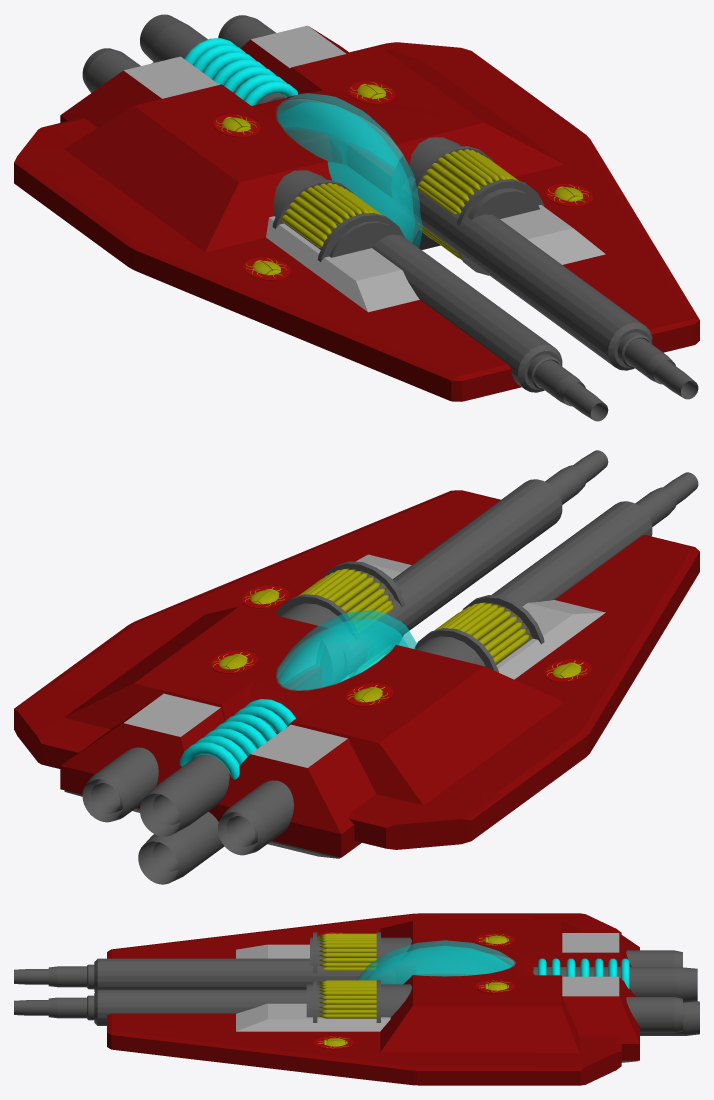
Rendered from Player1.fbx.
The picture shows the model from 3 angles, top to bottom: view 1: azimuth 30°, elevation 25°; view 2: azimuth 150°, elevation 25°; view 3: azimuth 270°, elevation 25°; orthographic projection. The views are drawn at different scales.
Visible parts, largest first — view 1: pasted__group17; view 2: pasted__group17; view 3: pasted__group17.
Part boxes in pixels (box(x1,y1,x2,y2)): pasted__group17: box(14, 14, 699, 421); pasted__group17: box(14, 450, 699, 884); pasted__group17: box(14, 913, 699, 1085).
Size of the model in its own units: 332 by 114 by 612.
